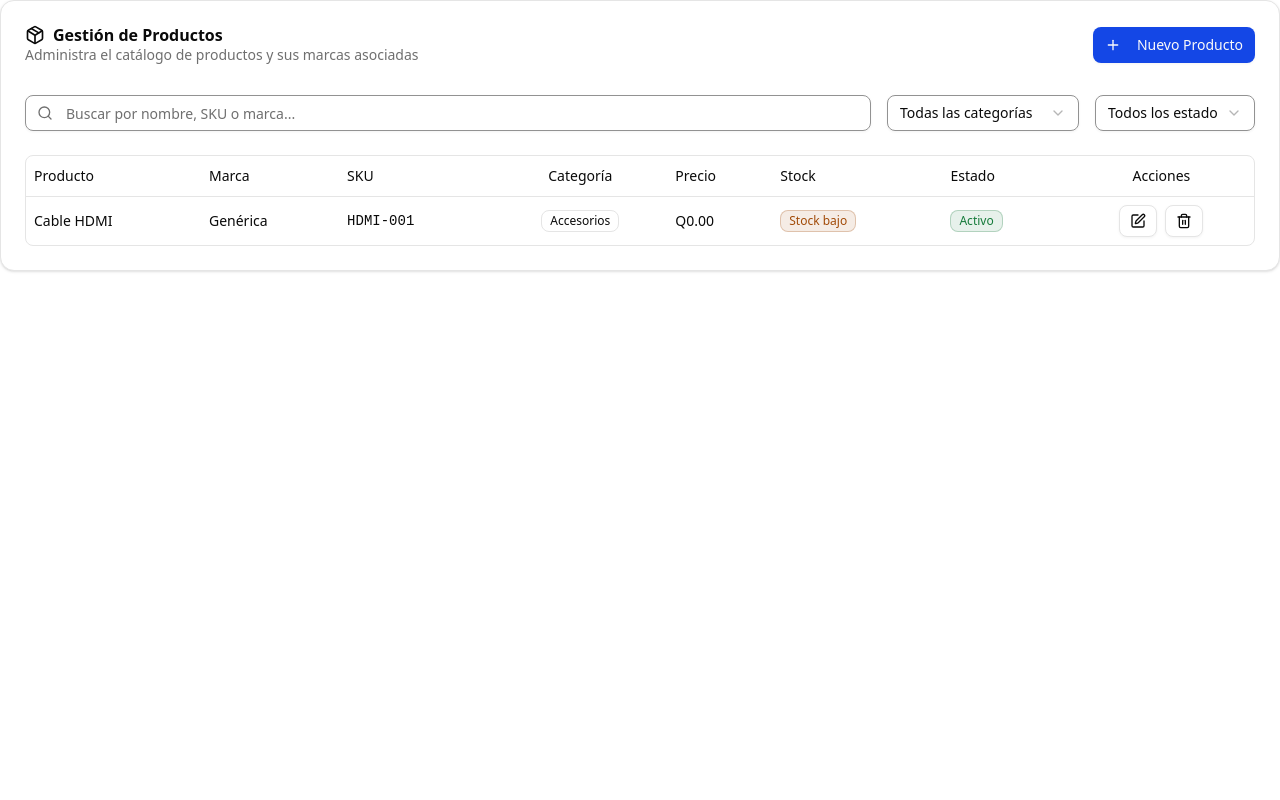
Scenario: ProductList › closes the dialog and reloads the list when the delete succeeds
Click the button named "Eliminar Cable HDMI".
click(1184, 220)  # box [1165, 204, 1203, 236]
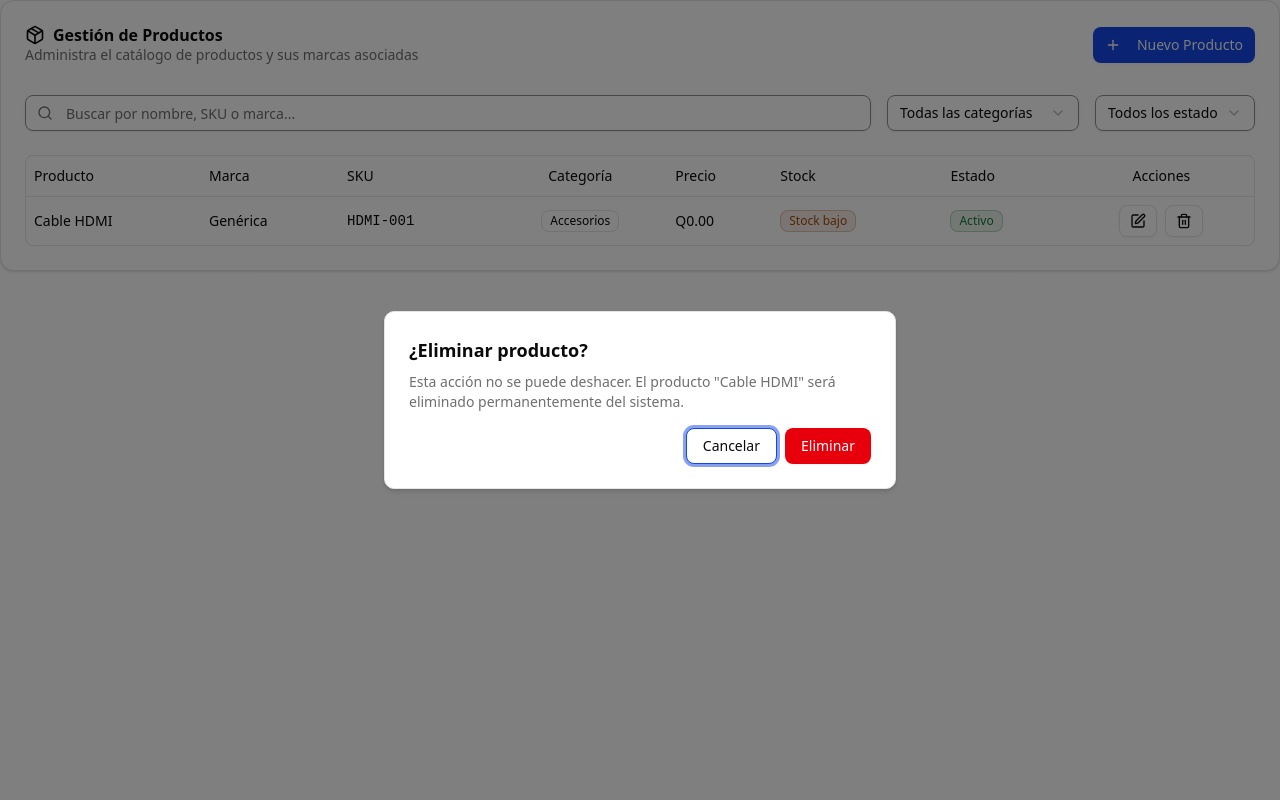
Click the button "Eliminar".
click(828, 446)  # box [785, 428, 871, 464]
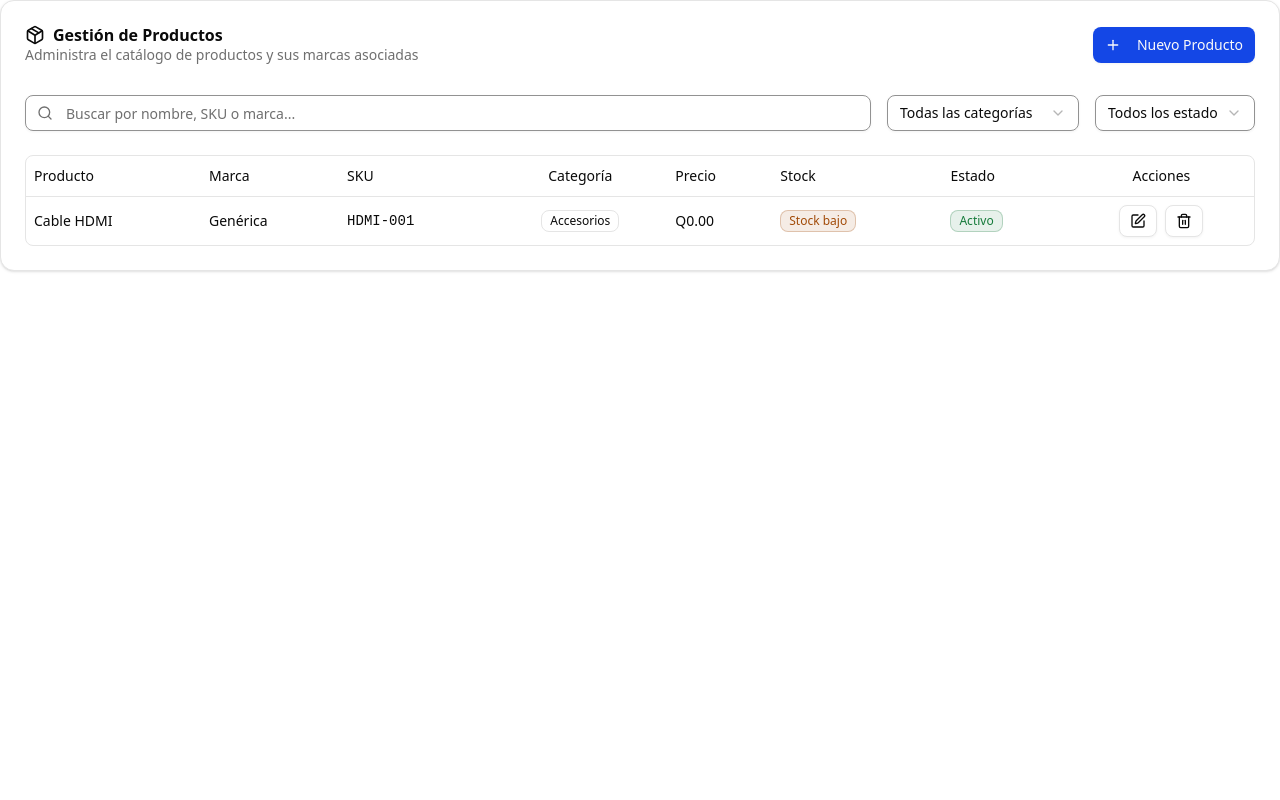
Expected: the dialog is gone
